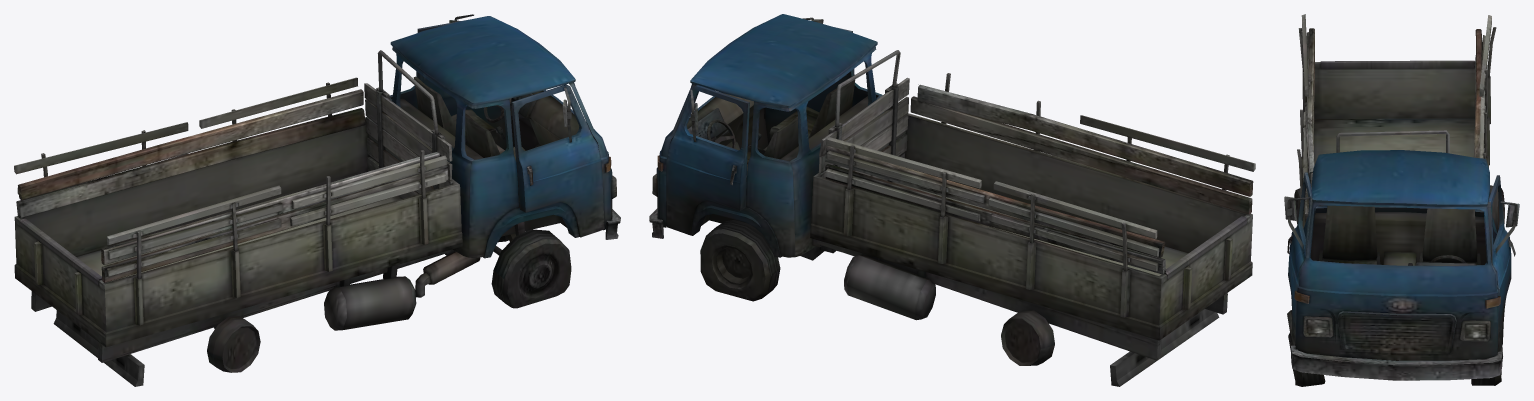
File: truck001a.glb
The picture shows the model from 3 angles, left to right: view 1: azimuth 30°, elevation 25°; view 2: azimuth 150°, elevation 25°; view 3: azimuth 270°, elevation 25°; orthographic projection. The views are drawn at different scales.
Parts seen in each view (by area): view 1: 0_truck001c_01; view 2: 0_truck001c_01; view 3: 0_truck001c_01.
Boxes of the visible parts, box(x1,y1,x2,y2) form: 0_truck001c_01: box(14, 14, 620, 386); 0_truck001c_01: box(649, 14, 1255, 386); 0_truck001c_01: box(1284, 14, 1519, 386).
Bounding box in the file's own units: 6.18 × 2.45 × 2.47.
Materials: 1 (1 with a texture image).
